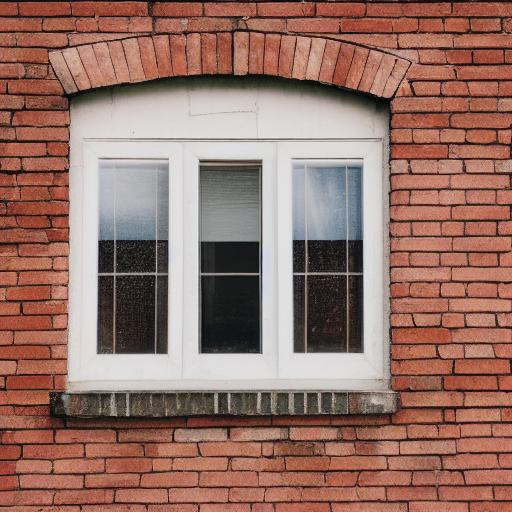Window: (45, 30, 412, 424)
